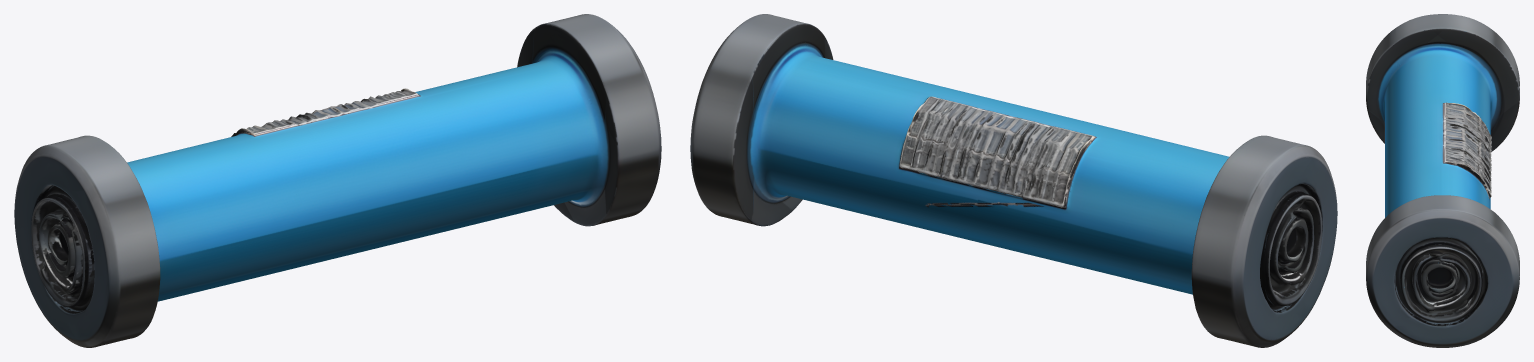
File: Simple sci fi blue cylindrical battery.fbx
3 renders of one model, left to right at view 1: azimuth 30°, elevation 25°; view 2: azimuth 150°, elevation 25°; view 3: azimuth 270°, elevation 25°, orthographic. The views are drawn at different scales.
Parts seen in each view (by area): view 1: Simple sci fi blue cylindrical battery; view 2: Simple sci fi blue cylindrical battery; view 3: Simple sci fi blue cylindrical battery.
Part boxes in pixels (bbox=[...]): Simple sci fi blue cylindrical battery: bbox=[14, 14, 661, 347]; Simple sci fi blue cylindrical battery: bbox=[690, 14, 1337, 347]; Simple sci fi blue cylindrical battery: bbox=[1366, 14, 1519, 347].
Bounding box in the file's own units: 190 × 60.32 × 60.56.
